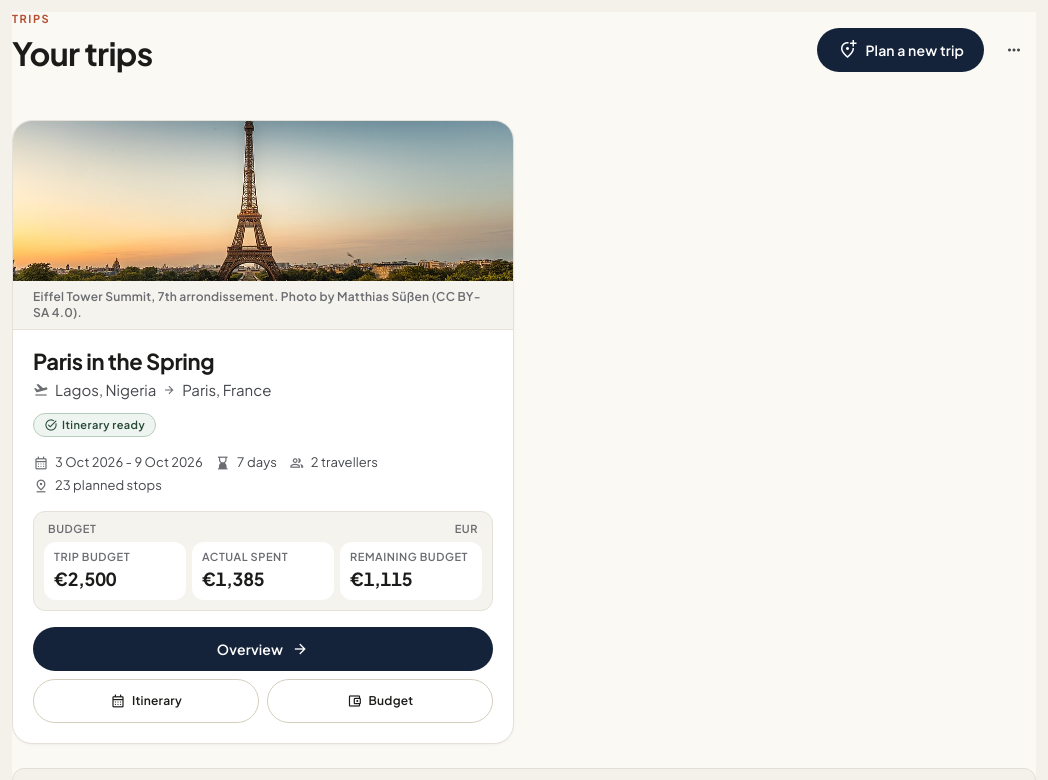
Scenario: TripsHomePage › clearing everything on this device › is reachable only through a deliberate menu, never as a bare link
Expected: the menu item "Clear all data on this device" is not shown
What coordinates should you click on to do the following:
click the button named "Sample data and reset options"
I would click on:
 (1014, 50)
Its box is [992,28,1036,72].
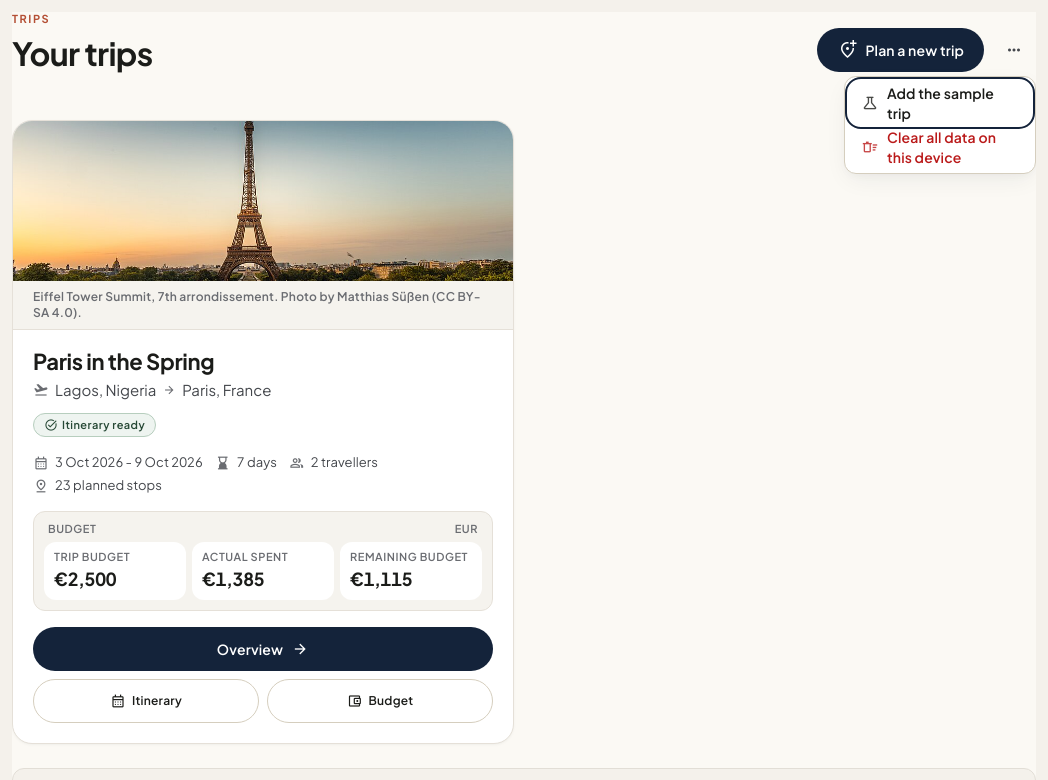
Expected: the menu item "Clear all data on this device" is enabled, [849,125,1031,169]
